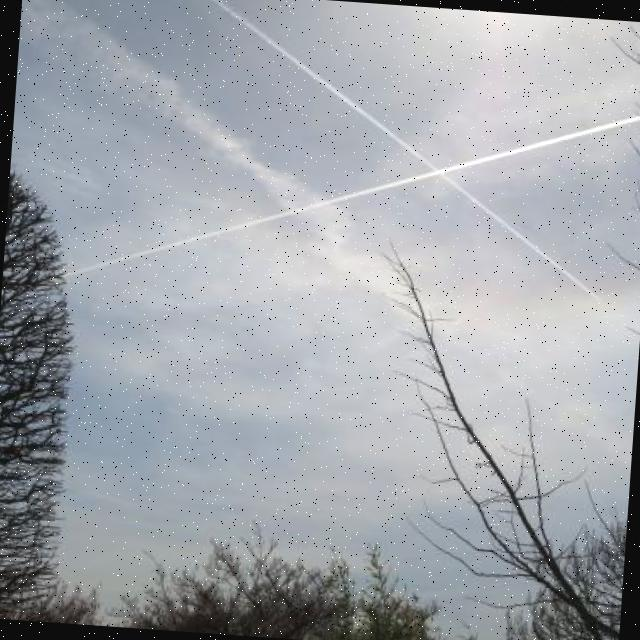Ct: (33, 1, 640, 286)
